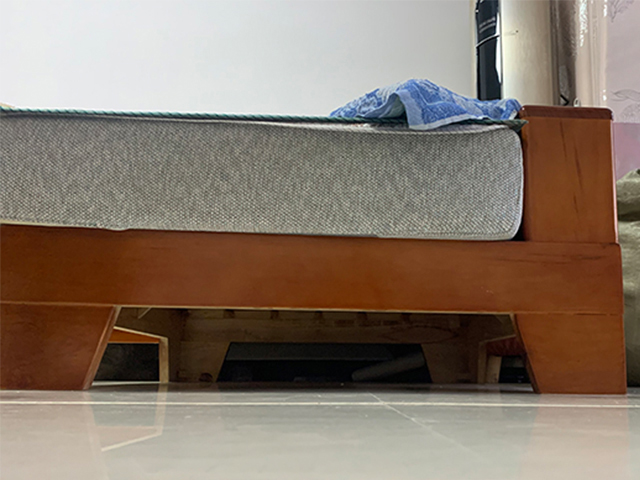sofa: (1, 76, 628, 396)
